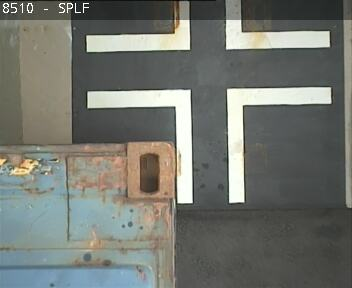groundmarker_1: (84, 86, 331, 205), (84, 1, 328, 51)
